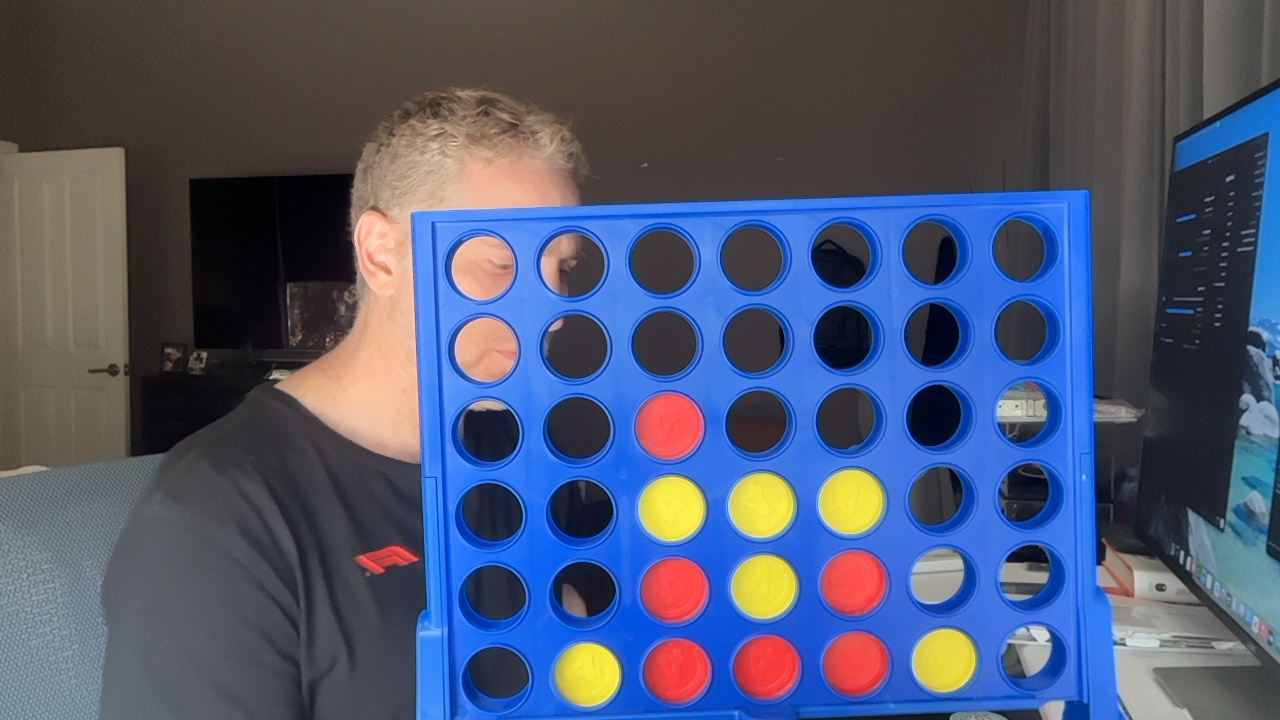red piece: (635, 392, 703, 459), (640, 557, 708, 622), (643, 639, 710, 704), (733, 635, 798, 701), (822, 631, 888, 696), (820, 550, 886, 615)
yellow piece: (638, 475, 705, 542), (730, 554, 797, 620), (818, 469, 885, 535), (728, 472, 795, 538), (554, 642, 620, 708), (912, 628, 976, 692)
